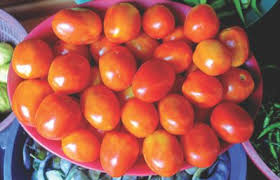tomato: (80, 86, 124, 135), (120, 96, 159, 141), (106, 7, 145, 48), (99, 44, 132, 90), (140, 54, 176, 96), (182, 7, 221, 44), (57, 7, 97, 43), (194, 44, 236, 77), (10, 40, 47, 77), (185, 70, 218, 111), (50, 56, 87, 90), (15, 80, 41, 114)
